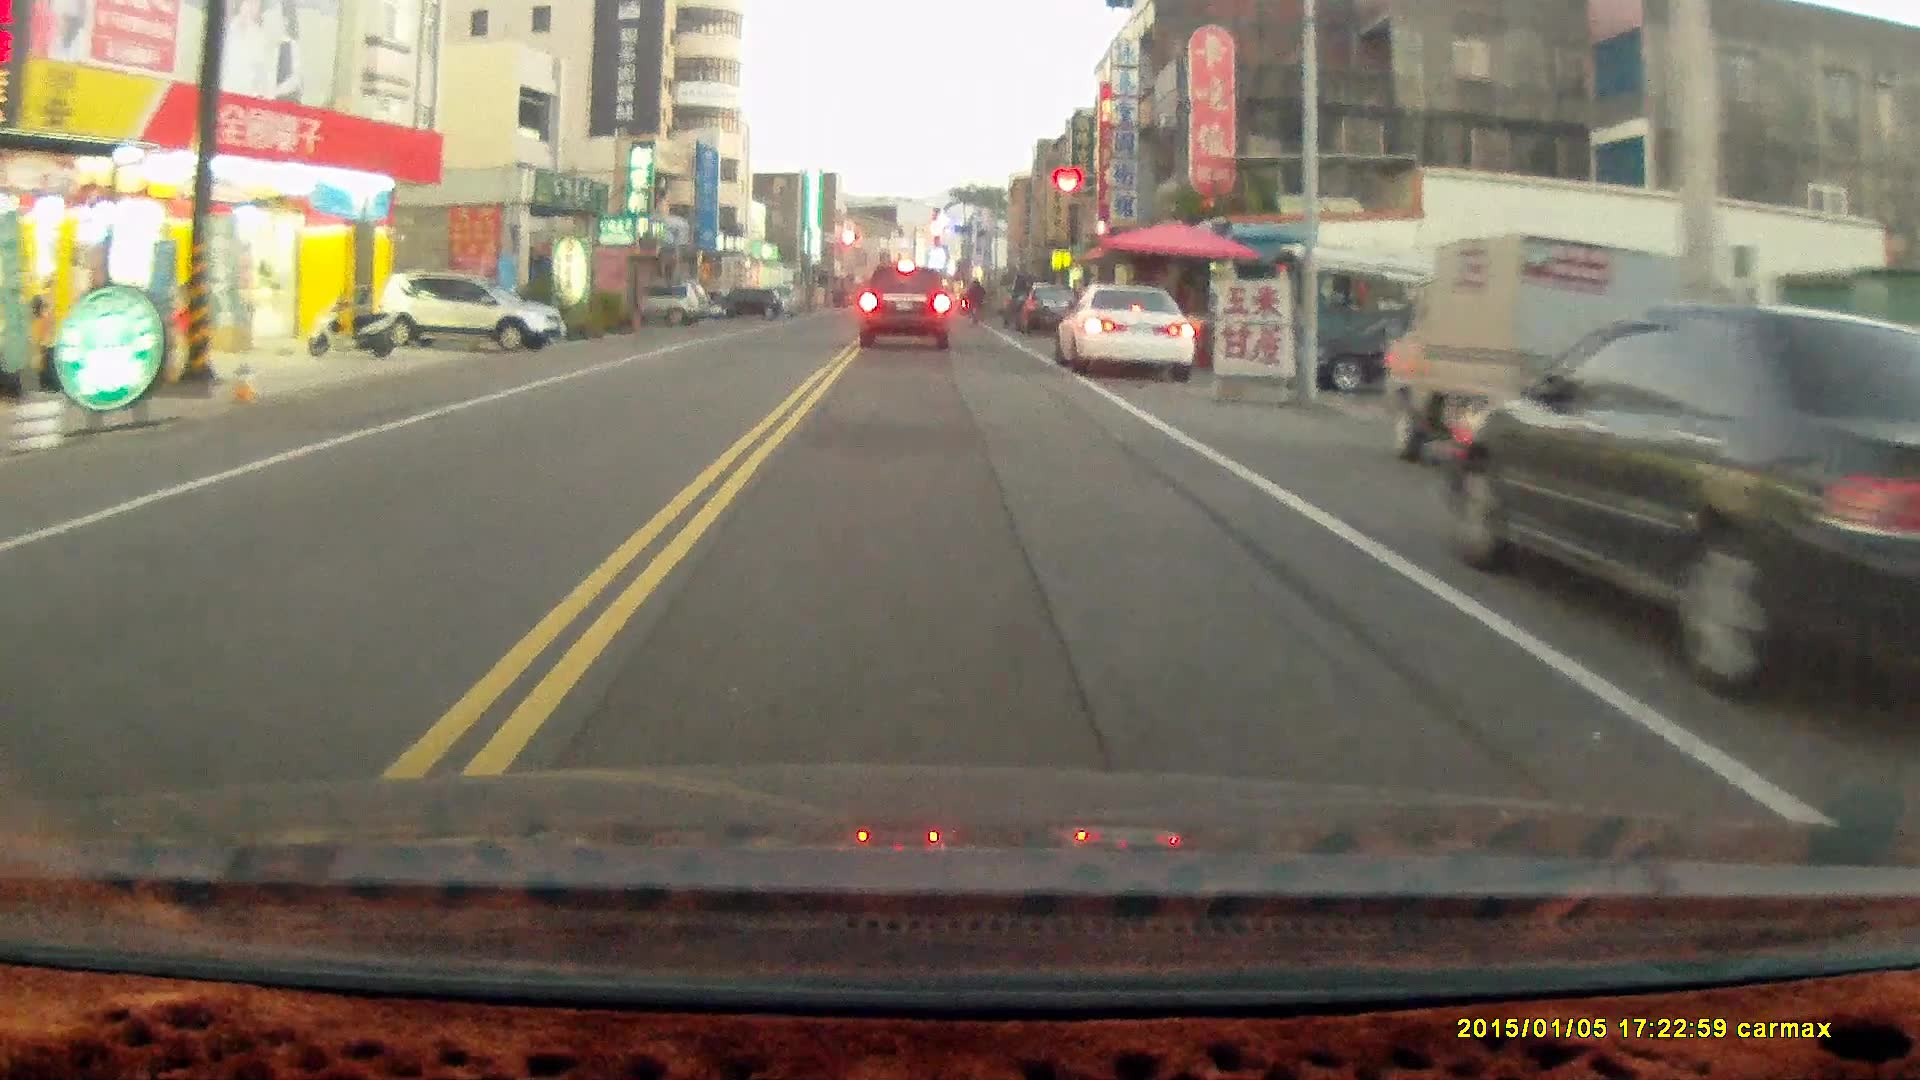vehicle: (1439, 303, 1920, 723), (1394, 243, 1693, 464), (1284, 301, 1548, 400), (369, 274, 560, 357), (1059, 281, 1197, 382), (857, 264, 953, 353)
